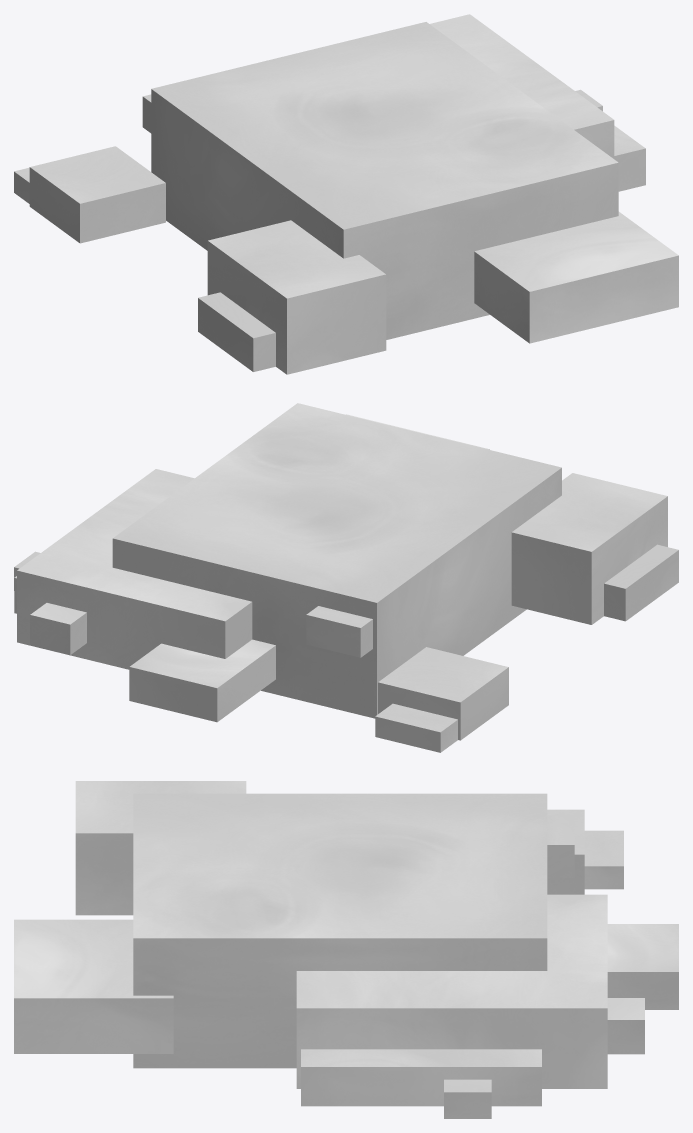
Rendered from cloud2.FBX.
The picture shows the model from 3 angles, top to bottom: view 1: azimuth 30°, elevation 25°; view 2: azimuth 150°, elevation 25°; view 3: azimuth 270°, elevation 25°; orthographic projection. The views are drawn at different scales.
Visible parts, largest first — view 1: Box001; view 2: Box001; view 3: Box001.
Boxes of the visible parts, bbox=[...] form: Box001: bbox=[14, 14, 678, 374]; Box001: bbox=[14, 403, 678, 752]; Box001: bbox=[14, 781, 678, 1118].
Bounding box in the file's own units: 128 × 29 × 134.
Materials: 1 (1 with a texture image).
